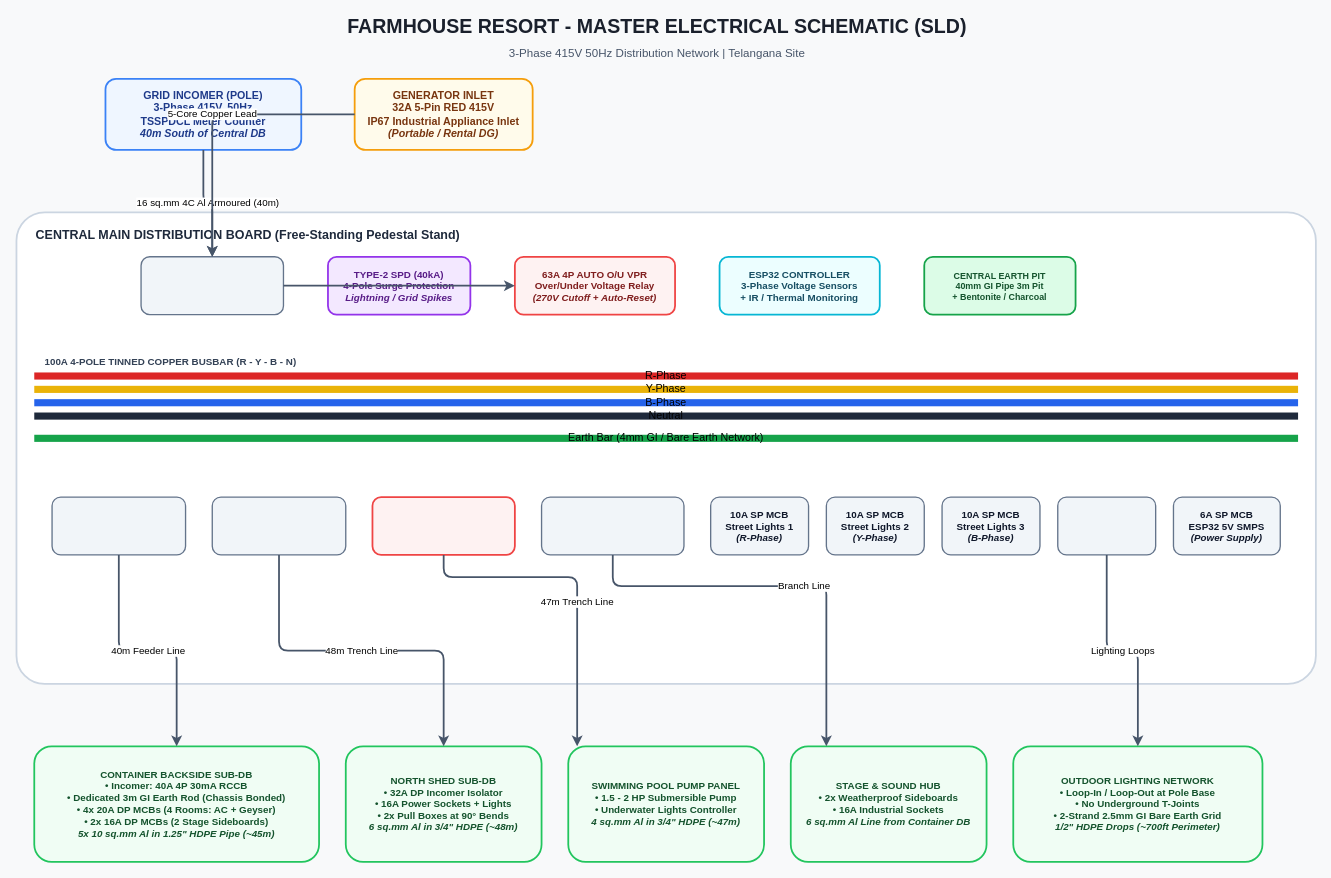
Some shapes in this 1331 by 878 pixel diagram are drawn without their labels. Each missing label, with the centre of its shape:
"16A 2-POLE MCB Feeder 4: Projector / Sound (Event Stage Area)" goes at [612,525].
"16A 2P RCBO (30mA) Feeder 3: Swimming Pool (Shock Protection)" goes at [443,525].
"32A 2-POLE MCB Feeder 2: North Shed (6 sq.mm Al Line)" goes at [278,525].
"40A 4-POLE MCB Feeder 1: Containers (10 sq.mm Al Line)" goes at [118,525].
"63A 4-POLE Manual Changeover Switch (I - 0 - II)" goes at [212,285].
"6A SP MCB Pathway Lights (Garden Loop)" goes at [1106,525].
